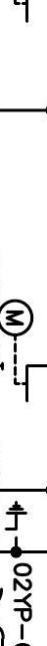115_gs: (4, 499, 29, 540)
